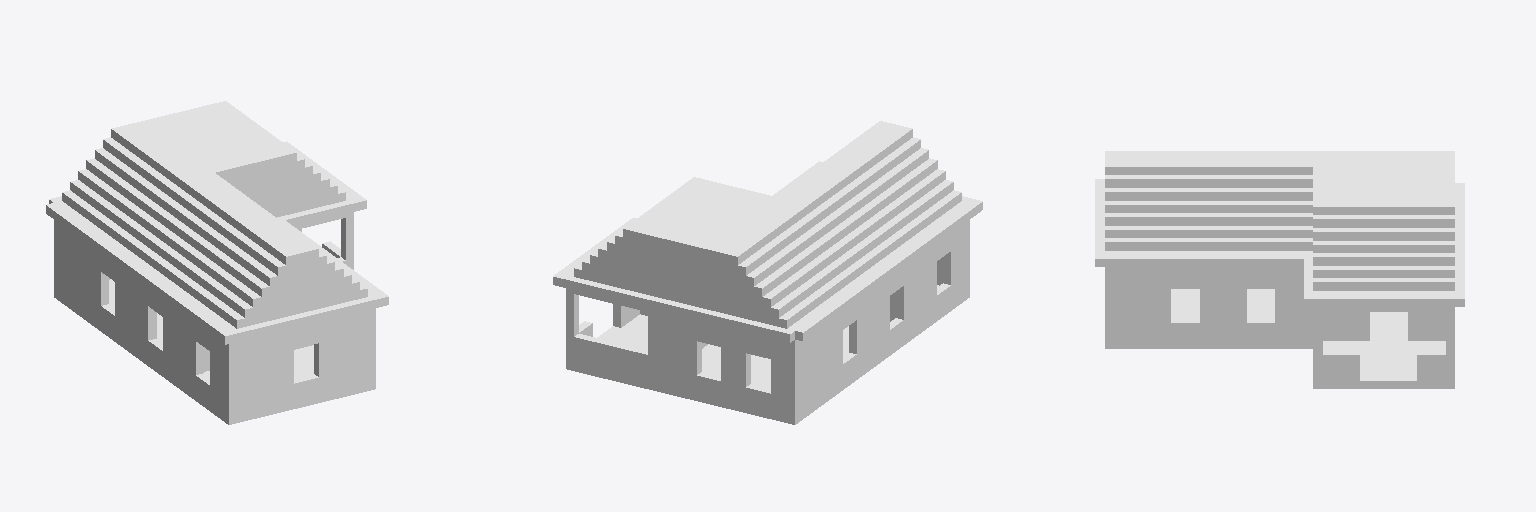
File: house6.obj
3 views of the same model, side by side, from view 1: azimuth 30°, elevation 25°; view 2: azimuth 150°, elevation 25°; view 3: azimuth 270°, elevation 25° (orthographic).
Parts seen in each view (by area): view 1: object 1; view 2: object 1; view 3: object 1.
Boxes of the visible parts, x1=… form: object 1: x1=46, y1=101, x2=388, y2=424; object 1: x1=553, y1=121, x2=982, y2=424; object 1: x1=1095, y1=151, x2=1464, y2=388.
Size of the model in its own units: 3 by 1.8 by 3.9.